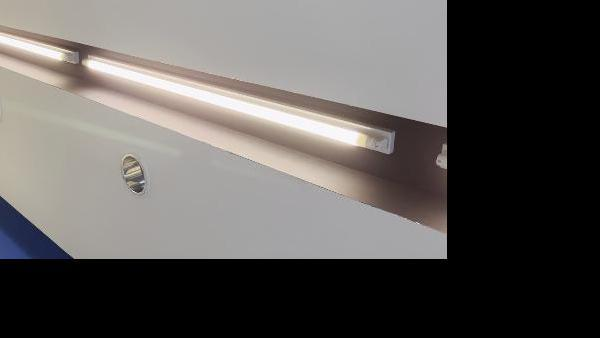light_on: (77, 48, 398, 169), (0, 18, 83, 70)
